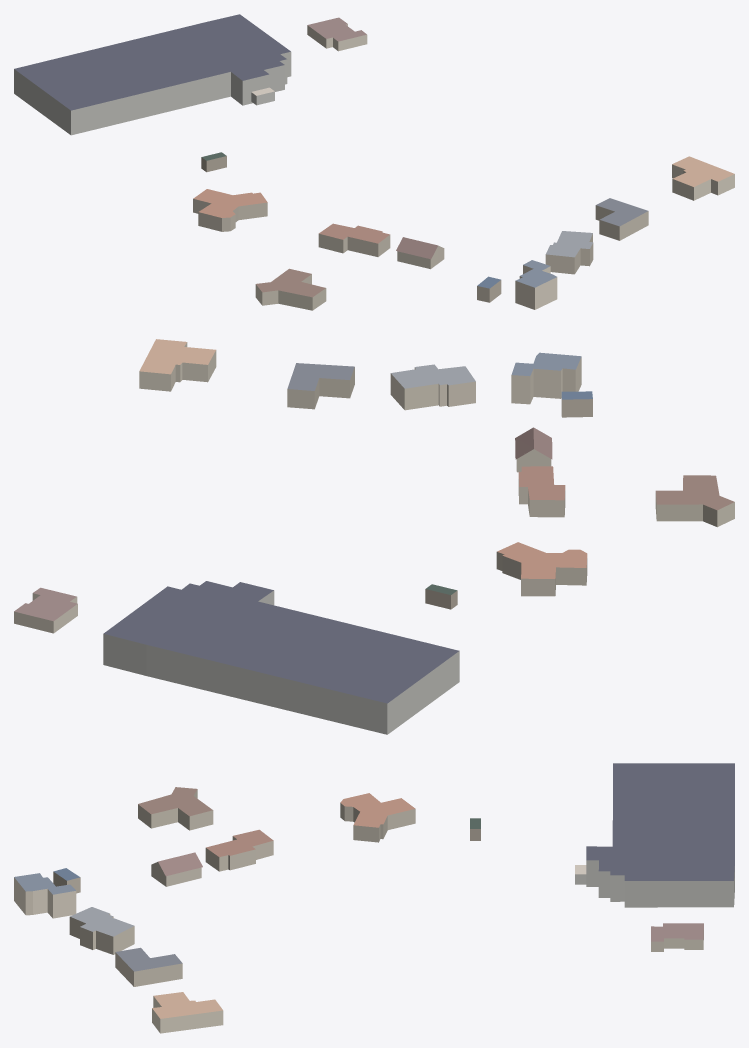
The picture shows the model from 3 angles, top to bottom: view 1: azimuth 30°, elevation 25°; view 2: azimuth 150°, elevation 25°; view 3: azimuth 270°, elevation 25°; orthographic projection. The views are drawn at different scales.
Visible parts, largest first — view 1: tuile; view 2: tuile; view 3: tuile.
Boxes of the visible parts, x1,y1,x2,y2 form: tuile: [14, 14, 734, 310]; tuile: [14, 339, 734, 734]; tuile: [14, 763, 734, 1033].
Bounding box in the file's own units: 181 × 15.64 × 228.
